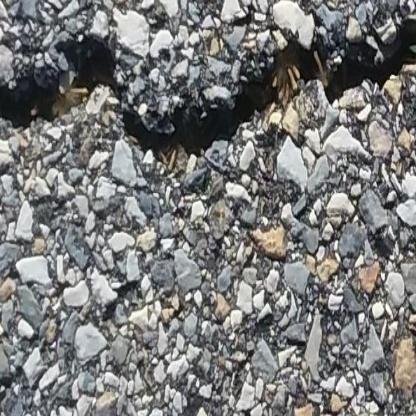Cracks: (0, 10, 416, 180)
